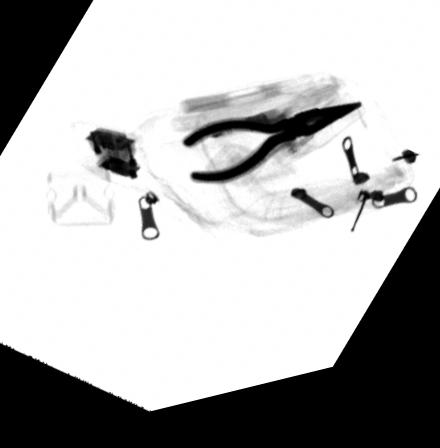Pliers: (178, 117, 364, 196)
